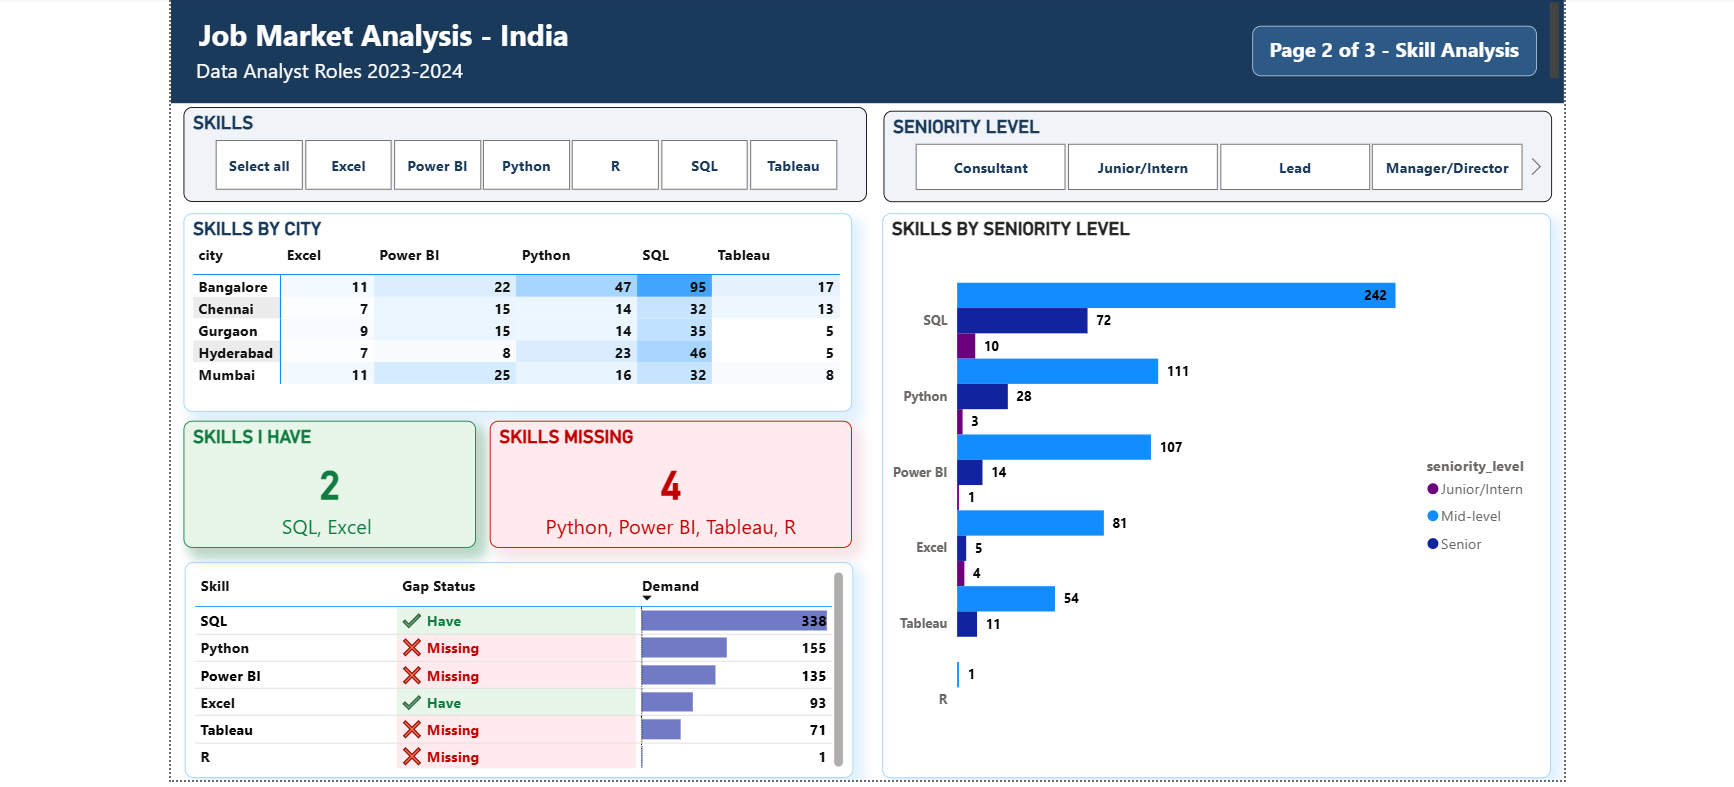

Layout of this report page (visuals, bound fields, positions):
{"tool":"powerbi","page":{"name":"Skill Analysis","canvas":[1280,720],"ordinal":1},"visuals":[{"type":"textbox","box":[0,0,1280,97.3],"z":0,"group":"g1"},{"type":"slicer","title":"SENIORITY LEVEL","fields":{"Values":["jobs.seniority_level"]},"box":[654.4,104.3,614.7,83.9],"z":0},{"type":"group","id":"g1","title":"Group 1","box":[0,0,1280,97.3],"z":1000},{"type":"slicer","title":"SKILLS","fields":{"Values":["skills.skillName"]},"box":[11.3,100.9,628.4,87.3],"z":2000},{"type":"pivotTable","title":"SKILLS BY CITY","fields":{"Rows":["jobs.city"],"Columns":["skills.skillName"],"Values":["CountNonNull(jobskills.jobID)"]},"box":[11.5,198.7,614.6,182.6],"z":3000},{"type":"clusteredBarChart","title":"SKILLS BY SENIORITY LEVEL","fields":{"Category":["skills.skillName"],"Y":["CountNonNull(jobskills.jobID)"],"Series":["jobs.seniority_level"]},"box":[653.6,198.7,614.6,519.2],"z":4000},{"type":"card","title":"SKILLS I HAVE","fields":{"Values":["skills.Skills I Have"]},"box":[11.5,389.4,268.8,117.2],"z":5000},{"type":"card","title":"SKILLS MISSING","fields":{"Values":["skills.Skills Missing"]},"box":[292.9,389.4,333.1,117.2],"z":6000},{"type":"tableEx","fields":{"Values":["skills.skillName","skills.Gap Status","jobskills.jobID"]},"box":[12.6,519.2,614.6,198.7],"z":7000},{"type":"textbox","box":[993.3,26.7,261.3,46.7],"z":11000,"group":"g1"}]}

Visuals, with their boxes on the page's 1280x720 design canvas (x1, y1, x2, y2). These are canvas units, not pixel positions in the 1734x787 screenshot, which may show the page scaled, cropped or inside an application window:
textbox: locate(0, 0, 1280, 97)
"SENIORITY LEVEL" slicer: locate(654, 104, 1269, 188)
"Group 1" group: locate(0, 0, 1280, 97)
"SKILLS" slicer: locate(11, 101, 640, 188)
"SKILLS BY CITY" pivotTable: locate(12, 199, 626, 381)
"SKILLS BY SENIORITY LEVEL" clusteredBarChart: locate(654, 199, 1268, 718)
"SKILLS I HAVE" card: locate(12, 389, 280, 507)
"SKILLS MISSING" card: locate(293, 389, 626, 507)
tableEx - skills.skillName x skills.Gap Status: locate(13, 519, 627, 718)
textbox: locate(993, 27, 1255, 73)
